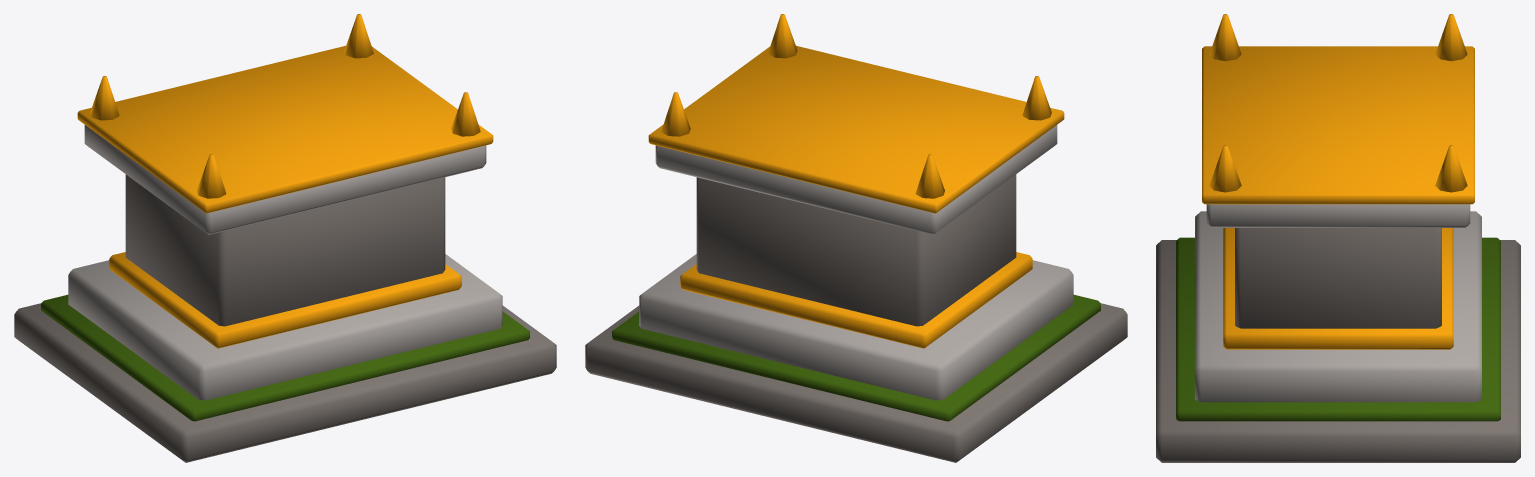
File: khmer_lotus_altar.glb
The picture shows the model from 3 angles, left to right: view 1: azimuth 30°, elevation 25°; view 2: azimuth 150°, elevation 25°; view 3: azimuth 270°, elevation 25°; orthographic projection. The views are drawn at different scales.
Parts seen in each view (by area): view 1: KhmerLotusAltar; view 2: KhmerLotusAltar; view 3: KhmerLotusAltar.
Part boxes in pixels (x1,y1,x2,y2): KhmerLotusAltar: (14, 14, 556, 462); KhmerLotusAltar: (585, 14, 1127, 462); KhmerLotusAltar: (1156, 14, 1520, 462).
Bounding box in the file's own units: 1.95 × 1.35 × 1.55.
